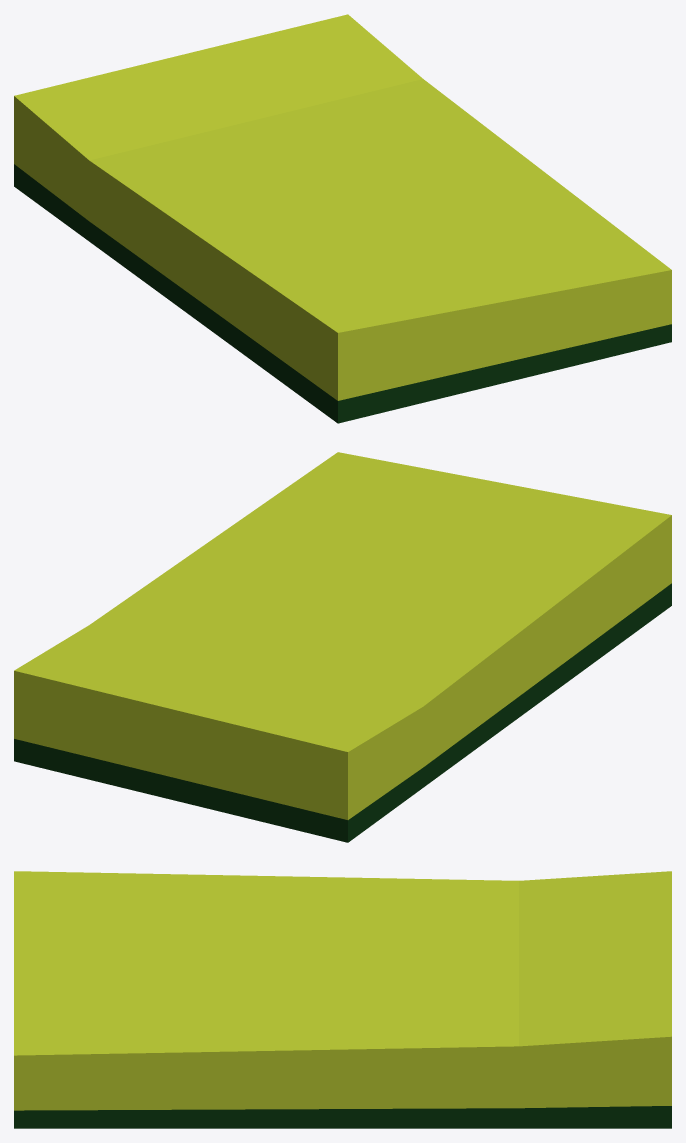
Rendered from spounge.fbx.
3 renders of one model, top to bottom at view 1: azimuth 30°, elevation 25°; view 2: azimuth 150°, elevation 25°; view 3: azimuth 270°, elevation 25°, orthographic.
Visible parts, largest first — view 1: Sponge; view 2: Sponge; view 3: Sponge.
Part boxes in pixels (left/top/right/bottom): Sponge: left=14, top=14, right=671, bottom=423; Sponge: left=14, top=452, right=671, bottom=842; Sponge: left=14, top=871, right=671, bottom=1128.
Size of the model in its own units: 286 by 74.16 by 480.
